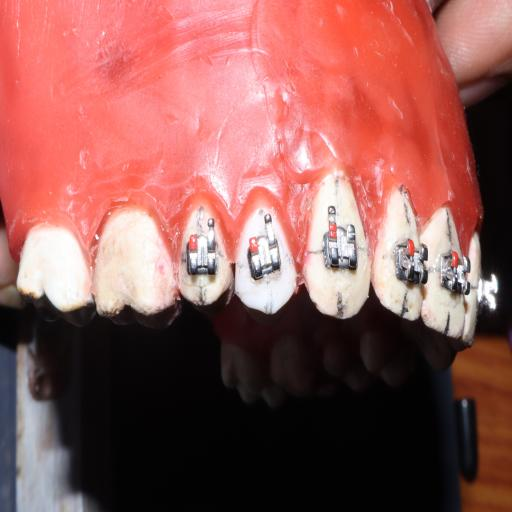correct_brace: (237, 194, 298, 318)
